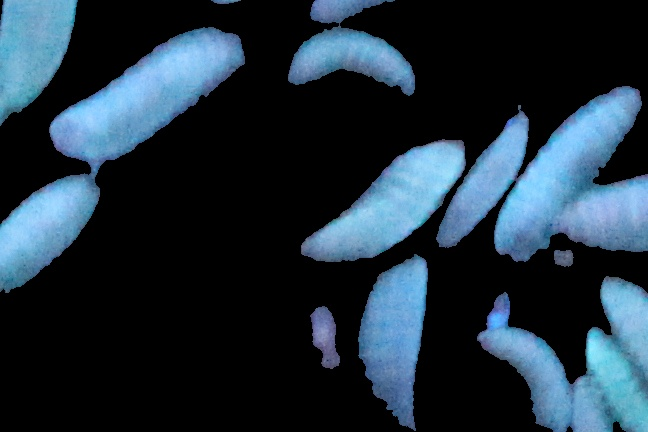larvae: (489, 79, 647, 258), (50, 31, 248, 158), (287, 135, 472, 260), (424, 108, 528, 250), (355, 253, 428, 430), (1, 177, 101, 287), (1, 1, 81, 121), (283, 29, 418, 96), (481, 329, 568, 432), (555, 171, 648, 252), (589, 323, 647, 432), (598, 267, 648, 365), (566, 368, 614, 432)
